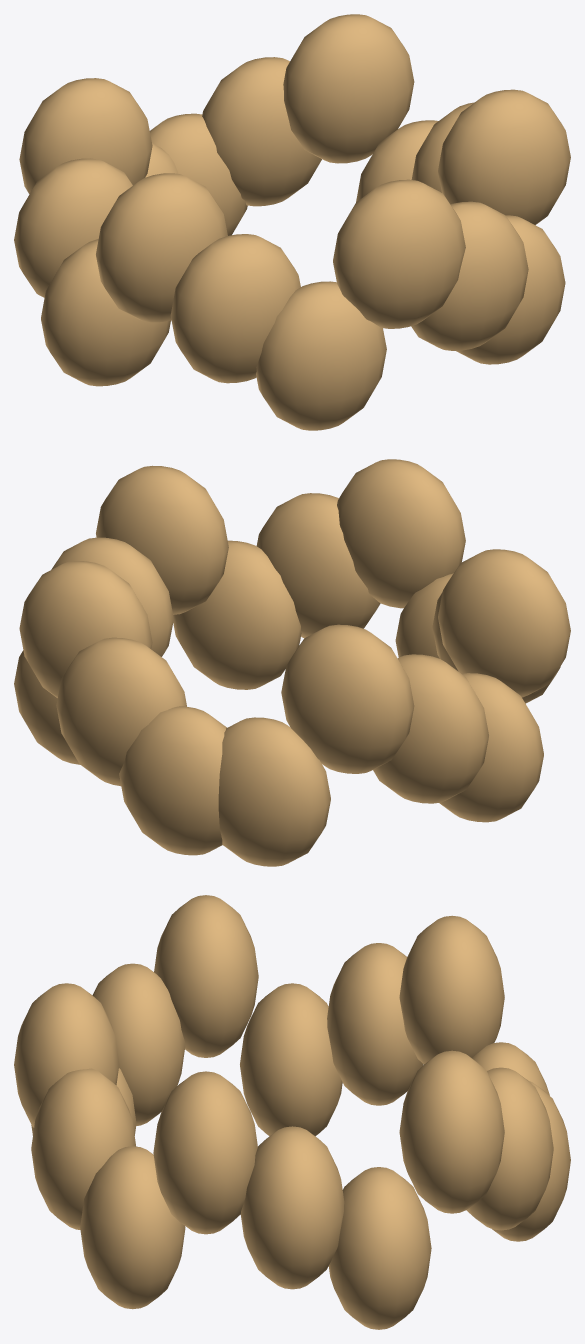
The model's file is Gaara_Skill1.fbx.
3 views of the same model, one above another, from view 1: azimuth 30°, elevation 25°; view 2: azimuth 150°, elevation 25°; view 3: azimuth 270°, elevation 25° (orthographic). The views are drawn at different scales.
Visible parts, largest first — view 1: SandCrest.008, SandCrest.002, SandCrest.009, SandCrest.010, SandCrest.005, SandCrest.011, SandCrest.001, SandCrest.012, SandCrest.014, SandCrest.007, SandCrest.013, SandCrest.006 (+4 smaller); view 2: SandCrest.014, SandCrest.011, SandCrest.008, SandCrest.015, SandCrest.006, SandCrest, SandCrest.005, SandCrest.001, SandCrest.013, SandCrest.002, SandCrest.007, SandCrest.012 (+4 smaller); view 3: SandCrest.002, SandCrest.005, SandCrest.004, SandCrest.003, SandCrest.011, SandCrest.006, SandCrest.014, SandCrest.012, SandCrest.013, SandCrest.007, SandCrest.010, SandCrest.008 (+3 smaller).
Boxes of the visible parts, x1,y1,x2,y2 form: SandCrest.008: (333,179,465,328); SandCrest.002: (283,14,414,163); SandCrest.009: (256,281,386,430); SandCrest.010: (170,234,300,383); SandCrest.005: (438,89,570,224); SandCrest.011: (96,173,227,322); SandCrest.001: (202,57,321,206); SandCrest.012: (41,239,170,386); SandCrest.014: (19,78,152,193); SandCrest.007: (411,201,528,350); SandCrest.013: (14,158,132,297); SandCrest.006: (456,215,565,364); SandCrest.014: (281,624,414,773); SandCrest.011: (438,549,570,697); SandCrest.008: (337,459,465,608); SandCrest.015: (218,717,330,866); SandCrest.006: (173,540,301,689); SandCrest: (119,706,226,855); SandCrest.005: (96,465,228,614); SandCrest.001: (56,637,186,786); SandCrest.013: (373,654,488,803); SandCrest.002: (19,561,152,697); SandCrest.007: (256,493,380,638); SandCrest.012: (439,673,543,822); SandCrest.002: (399,1050,504,1213); SandCrest.005: (153,1071,257,1234); SandCrest.004: (240,1126,344,1289); SandCrest.003: (328,1167,431,1329); SandCrest.011: (154,895,258,1057); SandCrest.006: (80,1146,185,1309); SandCrest.014: (399,915,504,1064); SandCrest.012: (240,983,342,1136); SandCrest.013: (327,943,423,1105); SandCrest.007: (31,1068,136,1229); SandCrest.010: (92,963,185,1125); SandCrest.008: (14,983,119,1127).
Size of the model in its own units: 400 by 180 by 370.
